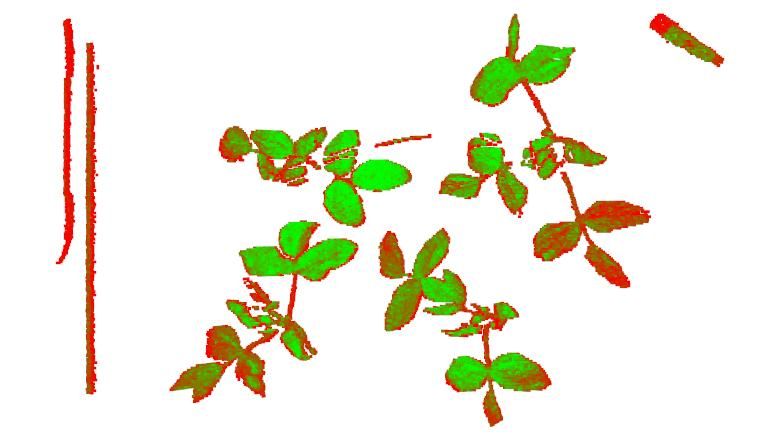mungbean: (440, 16, 649, 291), (379, 226, 555, 427), (172, 219, 360, 404), (217, 118, 416, 226)
